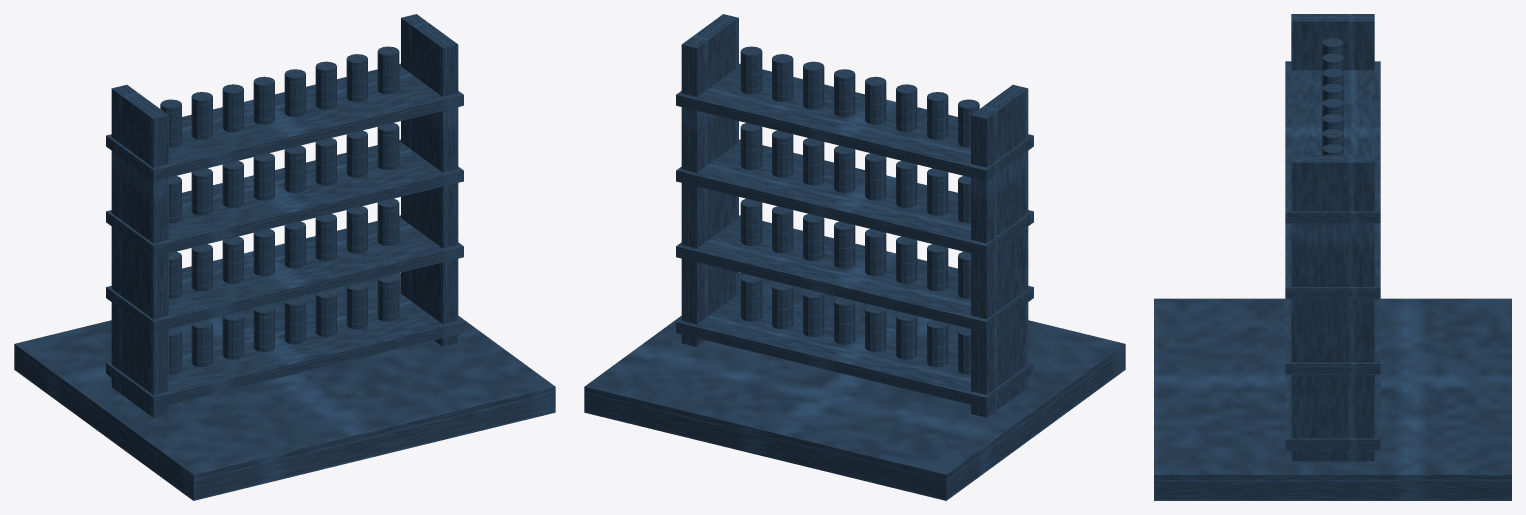
Rendered from ink_archive_00.glb.
3 views of the same model, side by side, from view 1: azimuth 30°, elevation 25°; view 2: azimuth 150°, elevation 25°; view 3: azimuth 270°, elevation 25° (orthographic).
Parts seen in each view (by area): view 1: Foundation, ArchivePost, ArchivePost.001, Shelf.002, Shelf.003, Shelf, Shelf.001, Scroll.031, Scroll.007, Scroll.015, Scroll.023, Scroll.026 (+27 smaller); view 2: Foundation, ArchivePost, ArchivePost.001, Shelf.002, Shelf.003, Shelf, Shelf.001, Scroll.031, Scroll.007, Scroll.015, Scroll.023, Scroll.026 (+27 smaller); view 3: Foundation, ArchivePost.001, Shelf.003, ArchivePost, Shelf.002, Shelf, Shelf.001.
Part boxes in pixels (box(x1,y1,x2,y2)): Foundation: box(14, 273, 555, 500); ArchivePost: box(111, 84, 168, 417); ArchivePost.001: box(401, 14, 458, 346); Shelf.002: box(106, 139, 463, 256); Shelf.003: box(106, 63, 463, 181); Shelf: box(106, 291, 463, 408); Shelf.001: box(106, 215, 463, 332); Scroll.031: box(377, 46, 399, 94); Scroll.007: box(377, 274, 399, 321); Scroll.015: box(377, 198, 399, 245); Scroll.023: box(377, 123, 399, 170); Scroll.026: box(222, 84, 243, 132); Foundation: box(584, 273, 1125, 500); ArchivePost: box(971, 84, 1028, 417); ArchivePost.001: box(681, 14, 738, 346); Shelf.002: box(676, 139, 1033, 256); Shelf.003: box(676, 63, 1033, 181); Shelf: box(676, 291, 1033, 408); Shelf.001: box(676, 215, 1033, 332); Scroll.031: box(740, 46, 762, 94); Scroll.007: box(740, 274, 762, 321); Scroll.015: box(740, 198, 762, 245); Scroll.023: box(740, 123, 762, 170); Scroll.026: box(896, 84, 917, 132); Foundation: box(1154, 298, 1511, 500); ArchivePost.001: box(1291, 155, 1374, 461); Shelf.003: box(1285, 61, 1380, 223); ArchivePost: box(1291, 14, 1374, 70); Shelf.002: box(1285, 223, 1380, 299); Shelf: box(1285, 375, 1380, 450); Shelf.001: box(1285, 299, 1380, 374).
Size of the model in its own units: 3.5 by 3 by 3.
1 material, 1 textured.
